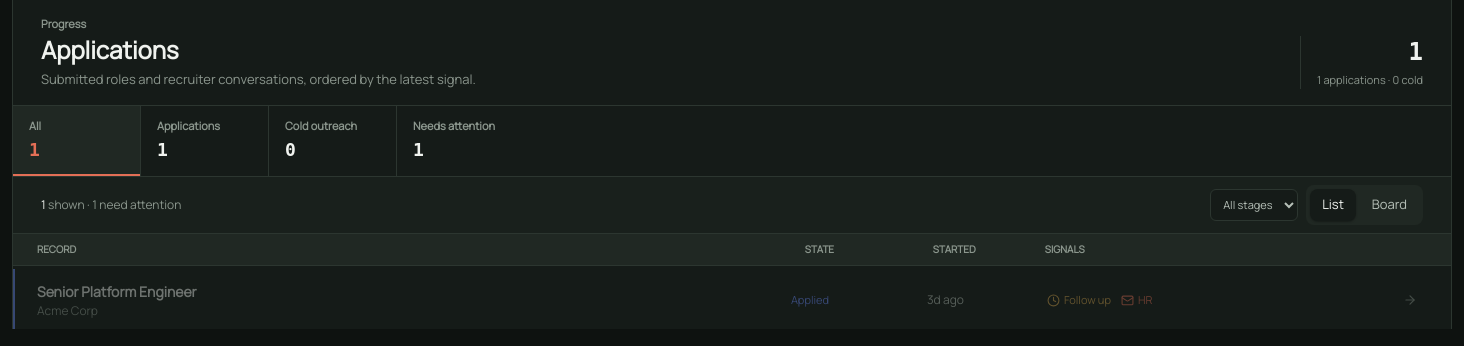
Test: Board › filters the inbox to applications needing attention
The width and height of the screenshot is (1464, 346).
Click the button with aria-label "Needs attention: 1": (461, 141) [397,106,525,176]
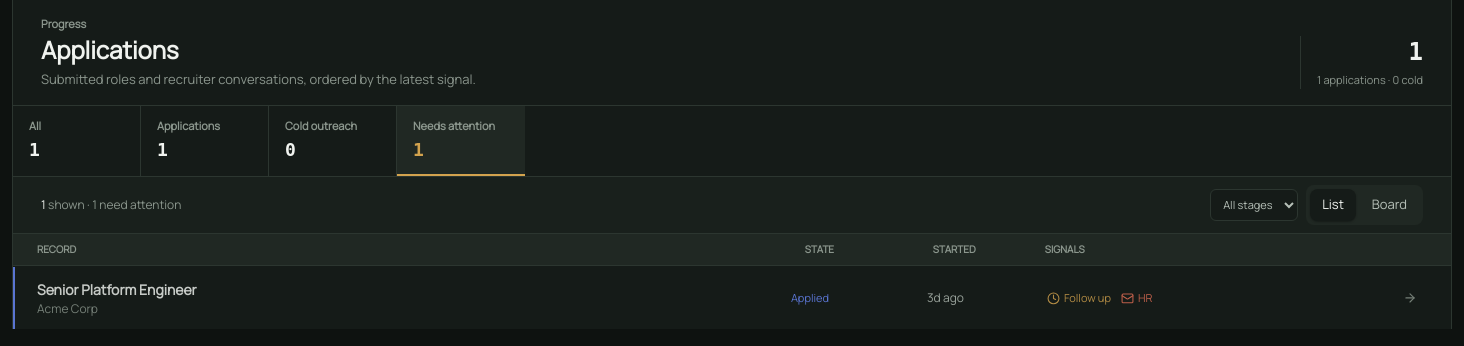
Expected: the element labelled "1 shown" is shown, [41,196,181,214]
Expected: the text "Senior Platform Engineer" is shown, [37,279,197,298]
